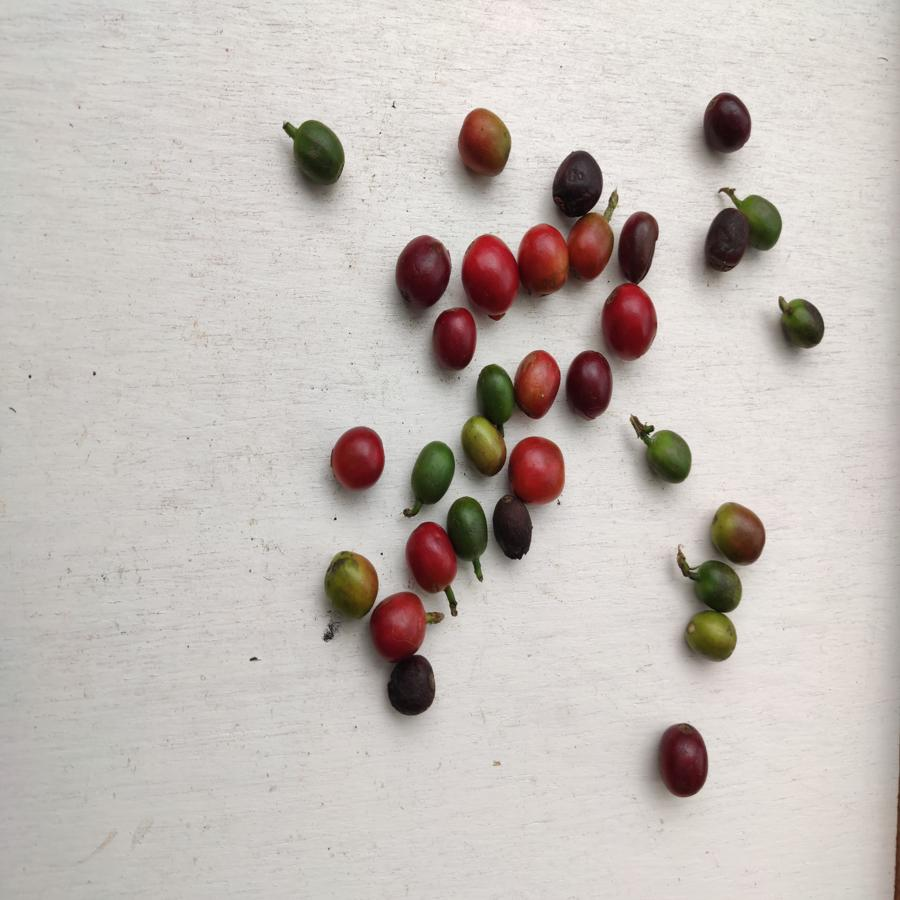Inmaduro: (289, 118, 347, 185), (643, 425, 694, 486), (690, 560, 747, 611), (448, 497, 492, 562), (409, 442, 454, 500), (779, 296, 826, 349), (475, 365, 513, 423), (744, 195, 784, 250)
Maduro: (464, 231, 519, 314), (602, 280, 658, 360), (405, 520, 454, 597), (518, 224, 570, 296), (507, 437, 564, 502), (371, 591, 428, 655), (329, 426, 385, 490), (563, 212, 615, 280), (512, 349, 563, 417)
Pinton: (458, 110, 513, 177), (709, 500, 766, 562), (324, 551, 376, 618), (457, 416, 508, 475), (682, 611, 738, 662)
Sobremaduro: (396, 235, 449, 313), (563, 352, 618, 424), (661, 722, 709, 799), (383, 657, 439, 719), (549, 152, 604, 212), (490, 497, 538, 562), (704, 90, 751, 152), (705, 206, 749, 272), (619, 210, 659, 282), (432, 306, 474, 366)
